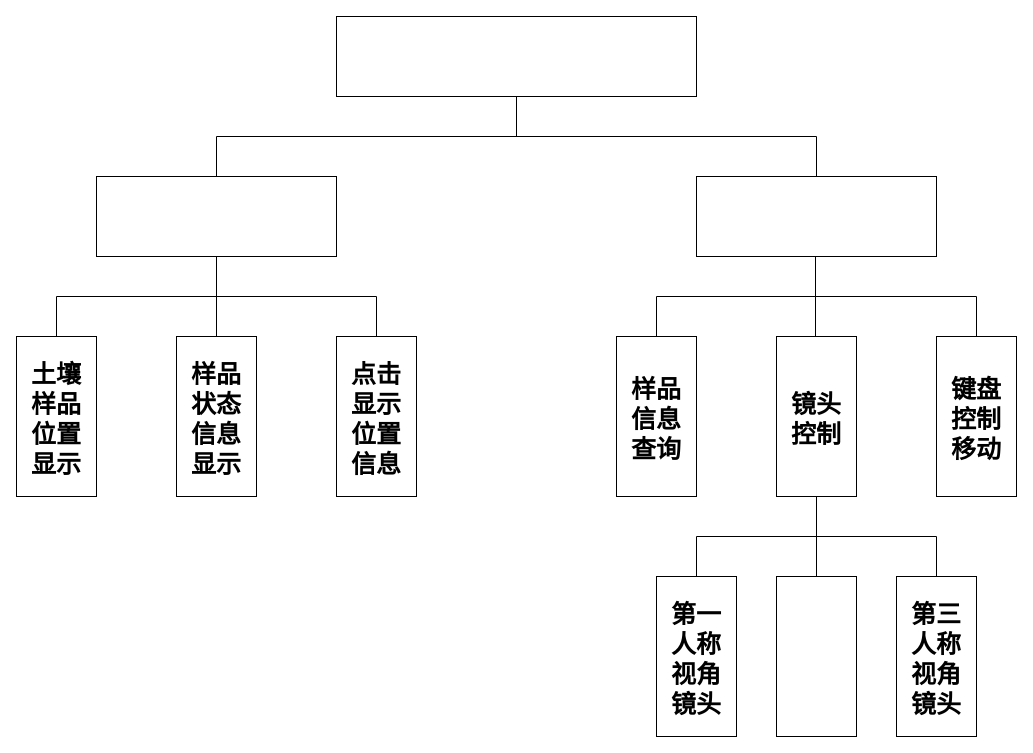
The diagram is 1033 pixels wide and 753 high, and some of its shapes have lost their labels. The shapes that lost their labels are listed below. From the top down, each one's centre as x and y in pixels, then its label:
At point (516, 56): "3D样品库模块".
At point (216, 216): "仓库展示".
At point (816, 216): "其他".
At point (816, 656): "镜头 切换 与 锁定".
